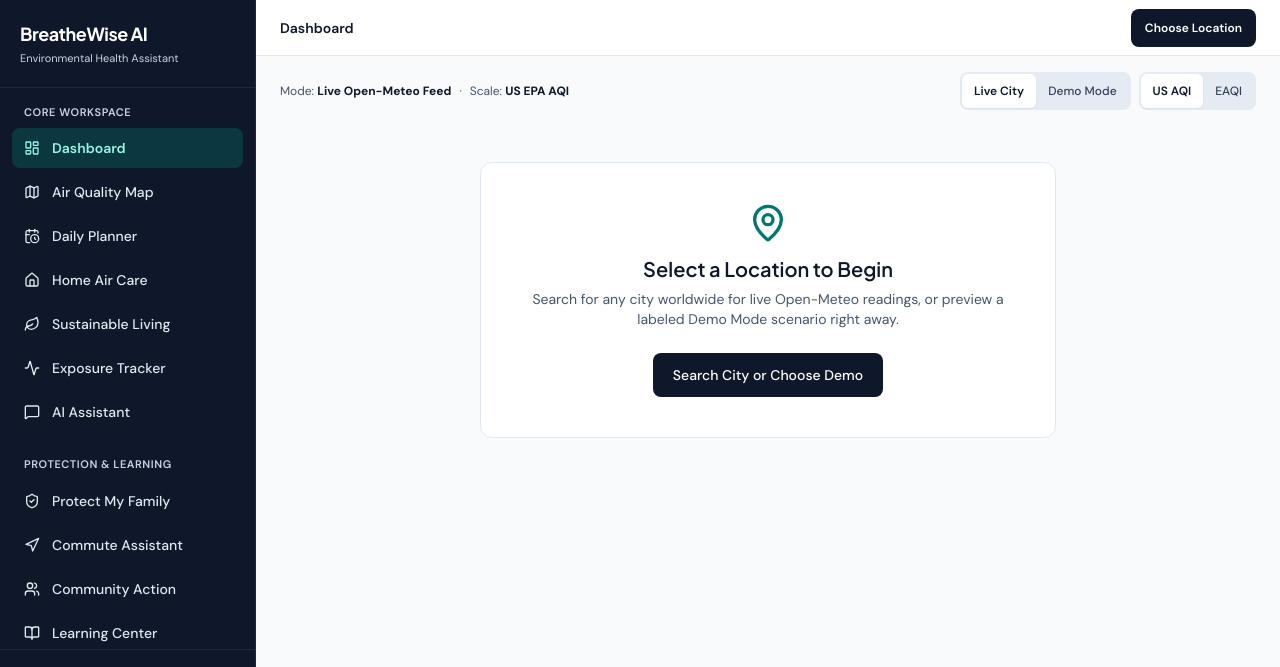
BreatheWise AI UI Workflows, Navigation, Forms, Settings & Persistence › handles missing location state, LocationSelectorModal search, errors, manual coordinates & live fetch
Earlier steps of the test are not shown.
# Open location modal
Click the button "Search City or Choose Demo" at [768, 375], box [653,353,883,397]
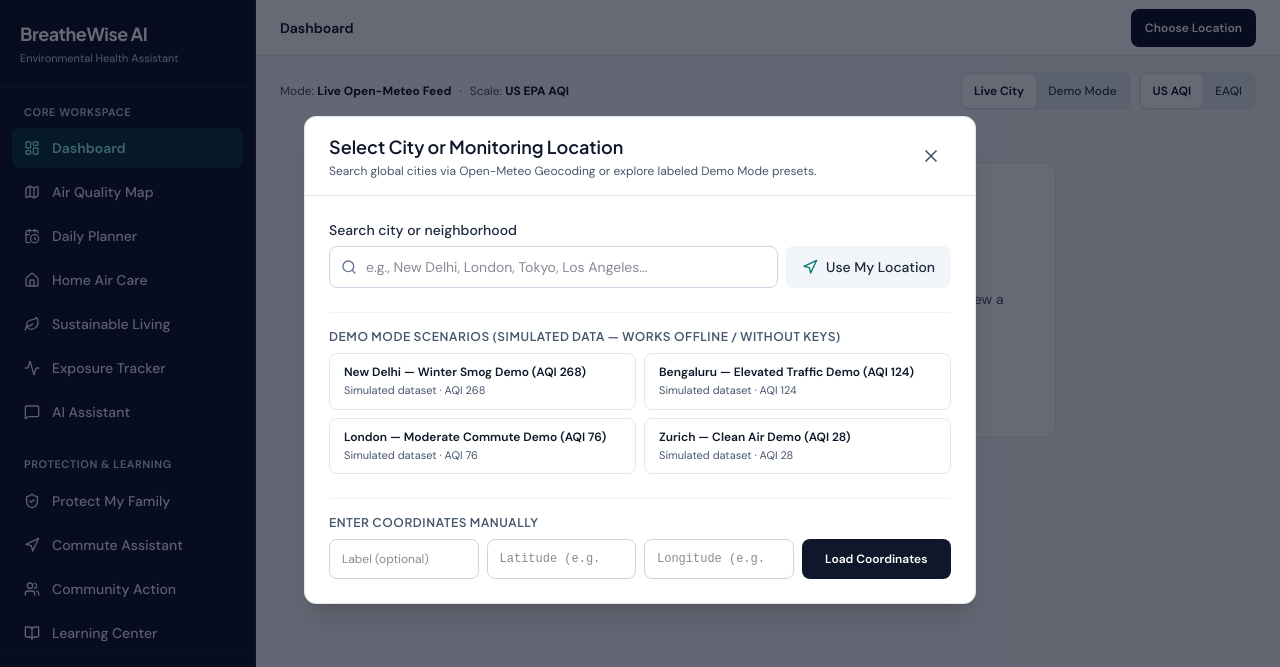
# 1 char prompt
Type "L" into the field labelled "Search city or neighborhood" at [554, 267], box [329,246,778,288]
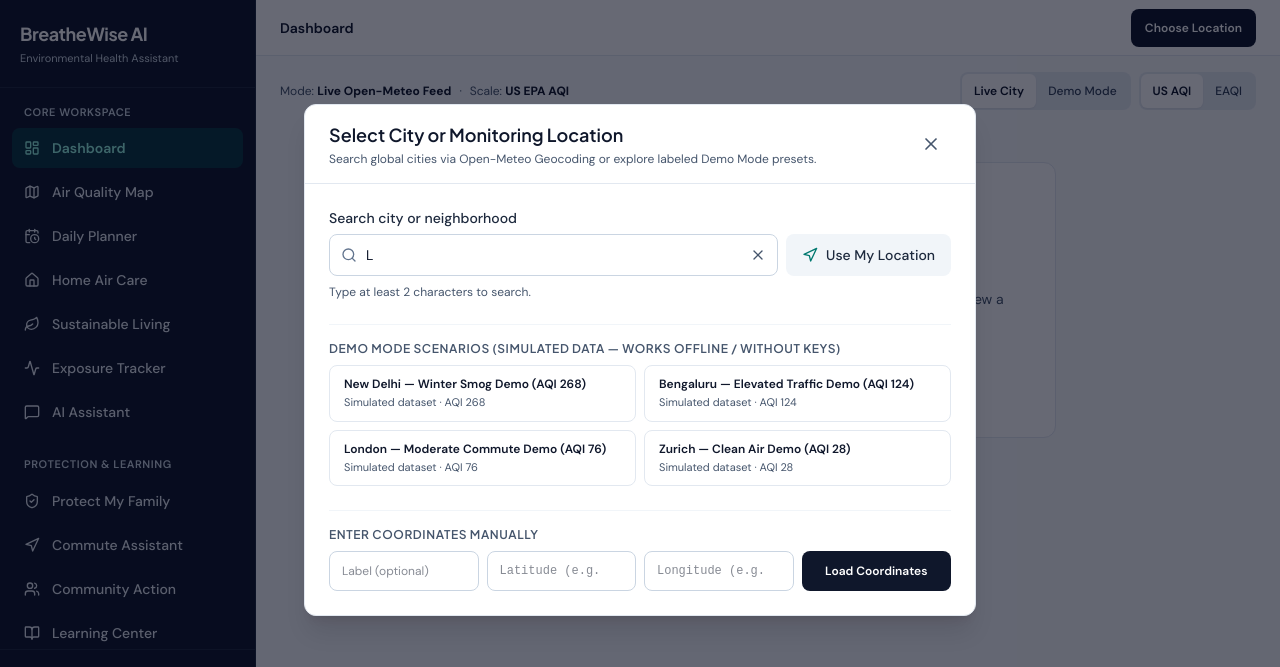
Now the text "Type at least 2 characters to search." is shown, box [329,284,531,300]
# API failure in search displays alert
Replace the text in the field labelled "Search city or neighborhood" with "FailCity" at [554, 255], box [329,234,778,276]
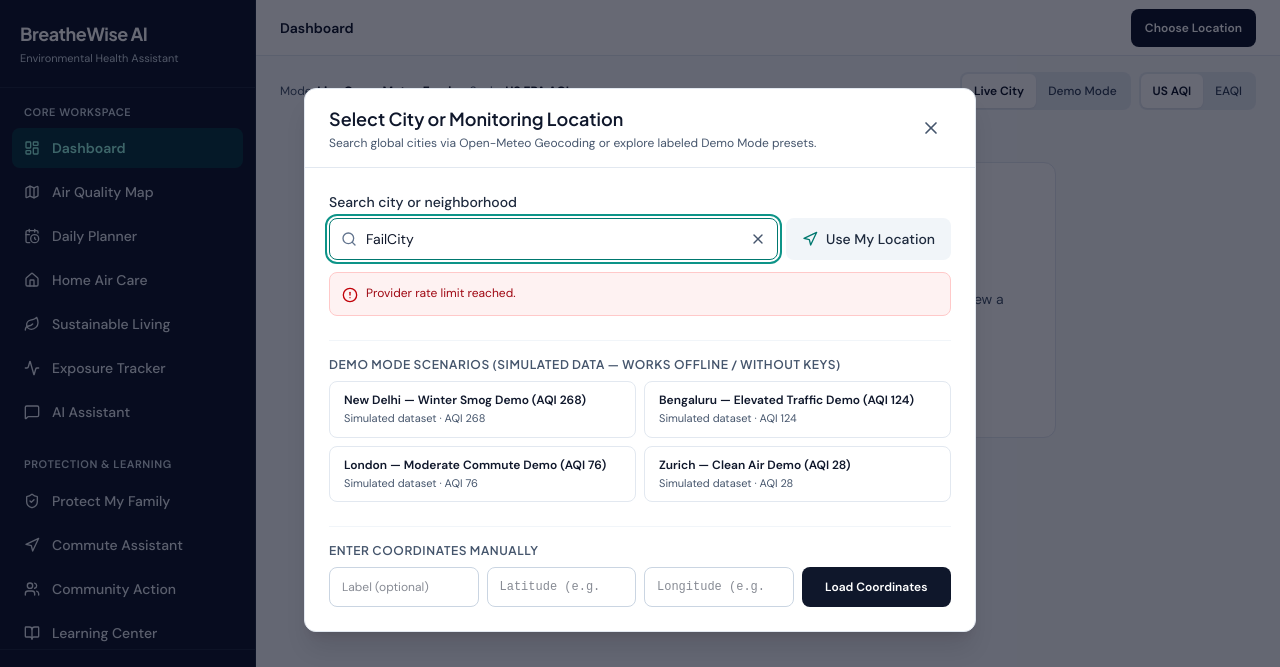
Now the text "Provider rate limit reached." is shown, box [366,285,516,301]
# Invalid manual coordinates trigger inline validation error
Type "999" into the number field labelled "Latitude" at [561, 587], box [486,567,636,607]
Type "10" into the number field labelled "Longitude" at [719, 587], box [644,567,794,607]
Click the button "Load Coordinates" at [876, 587], box [802,567,951,607]
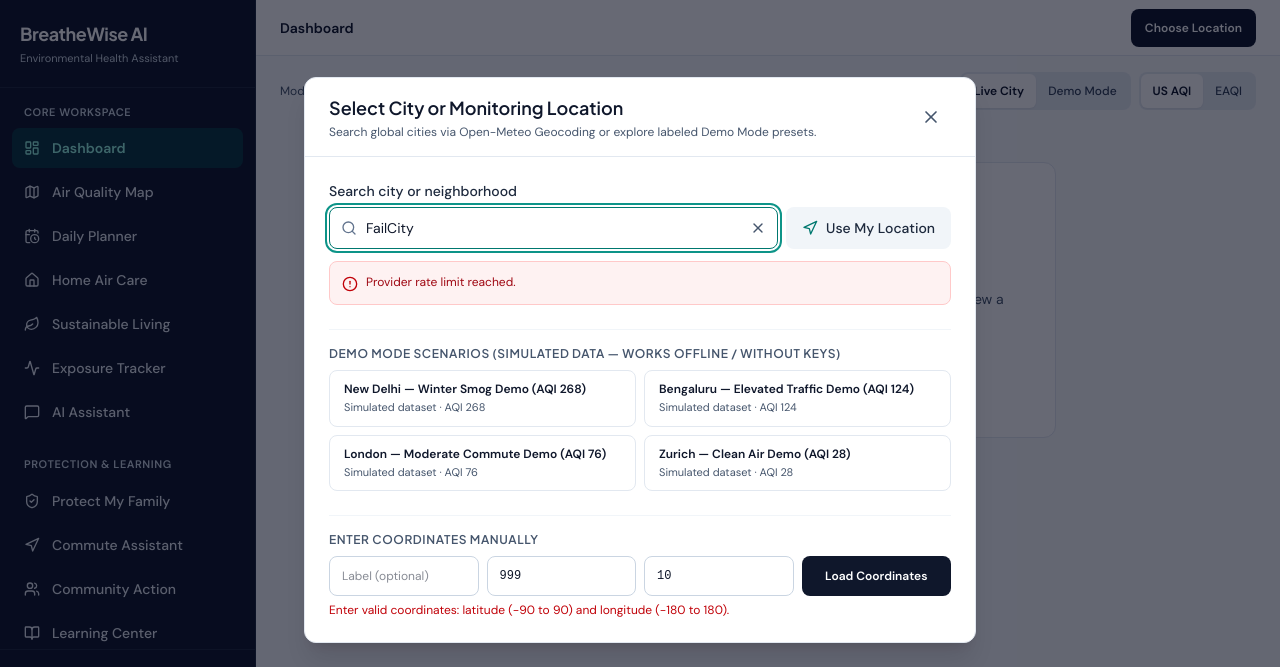
Now the text "Enter valid coordinates: latitude (-90 to 90) and longitude (-180 to 180)." is shown, box [329,602,729,618]
# Valid search & selection loads live snapshot from geocoding search results list
Replace the text in the field labelled "Search city or neighborhood" with "London" at [554, 228], box [329,207,778,249]
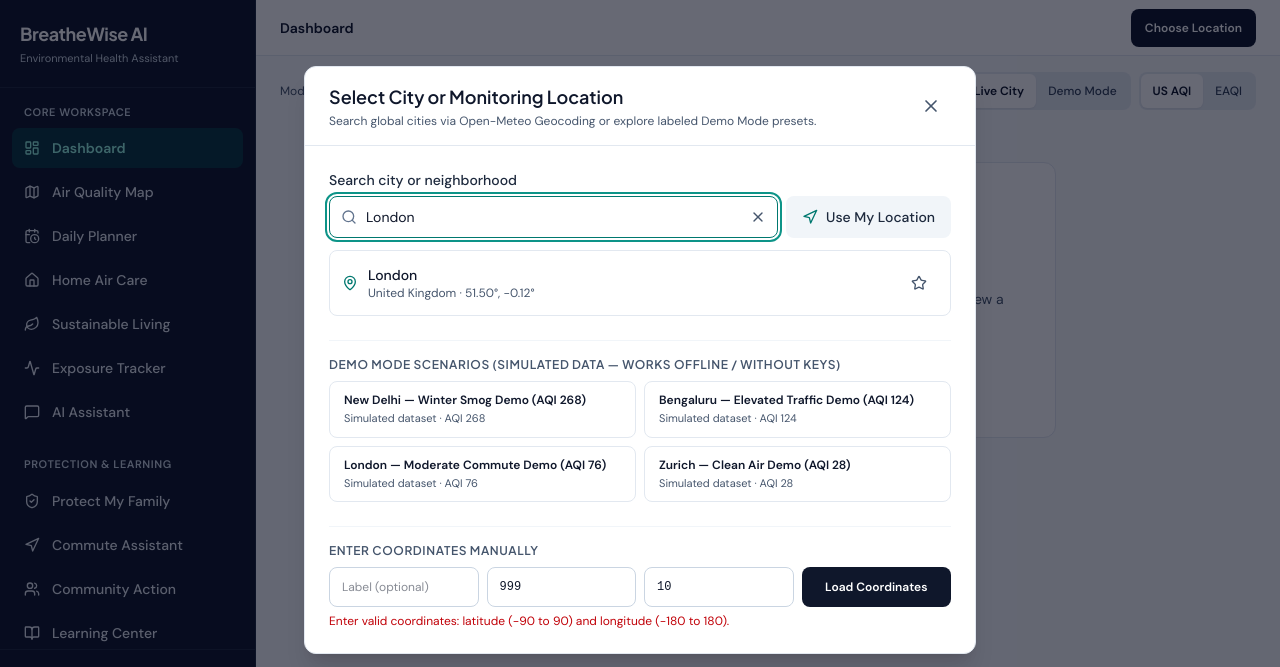
Click the button "London United Kingdom · 51.50°, -0.12°" at [393, 275], box [342,259,900,307]
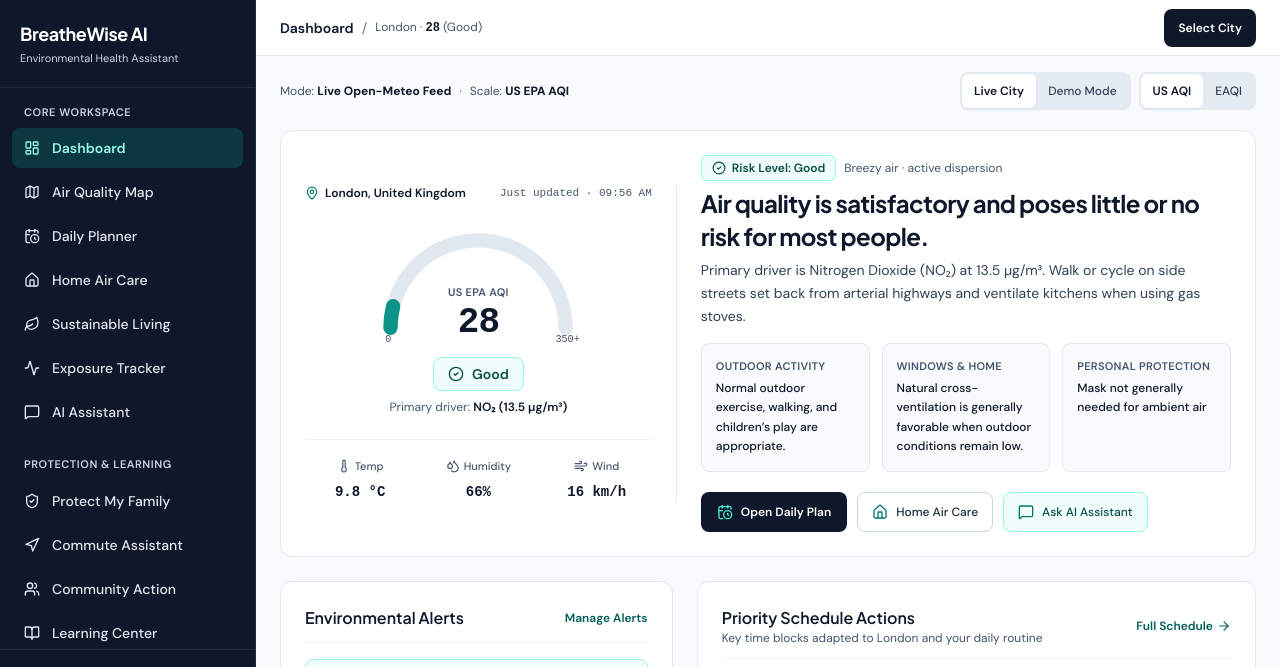
Expected: the text "Live Open-Meteo Feed" is shown, [317,83,451,99]
Now the text "London · 28 (Good)" is shown, box [375,19,482,36]
